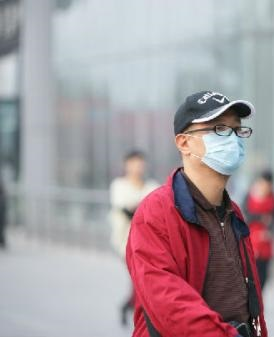person: (126, 90, 271, 337), (111, 150, 163, 259), (240, 170, 274, 288)
